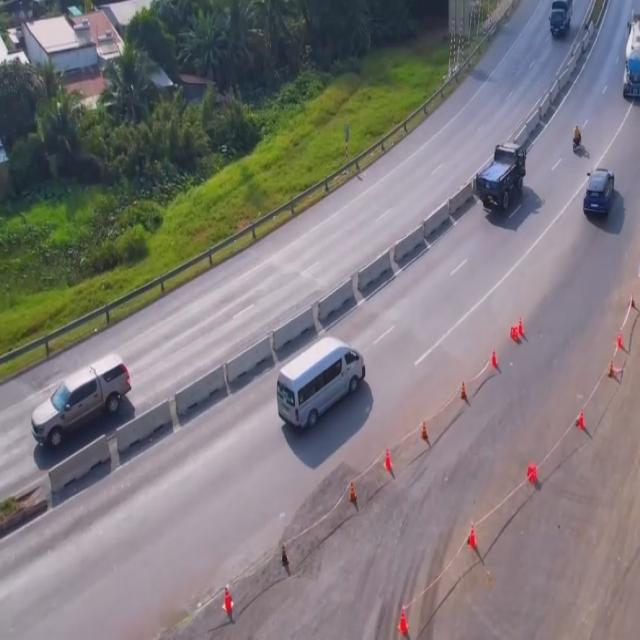car: (33, 353, 135, 449), (274, 336, 366, 437), (584, 165, 614, 222)
motorbike: (570, 123, 584, 150)
truck: (475, 140, 528, 216), (624, 2, 640, 106), (550, 0, 572, 41)
